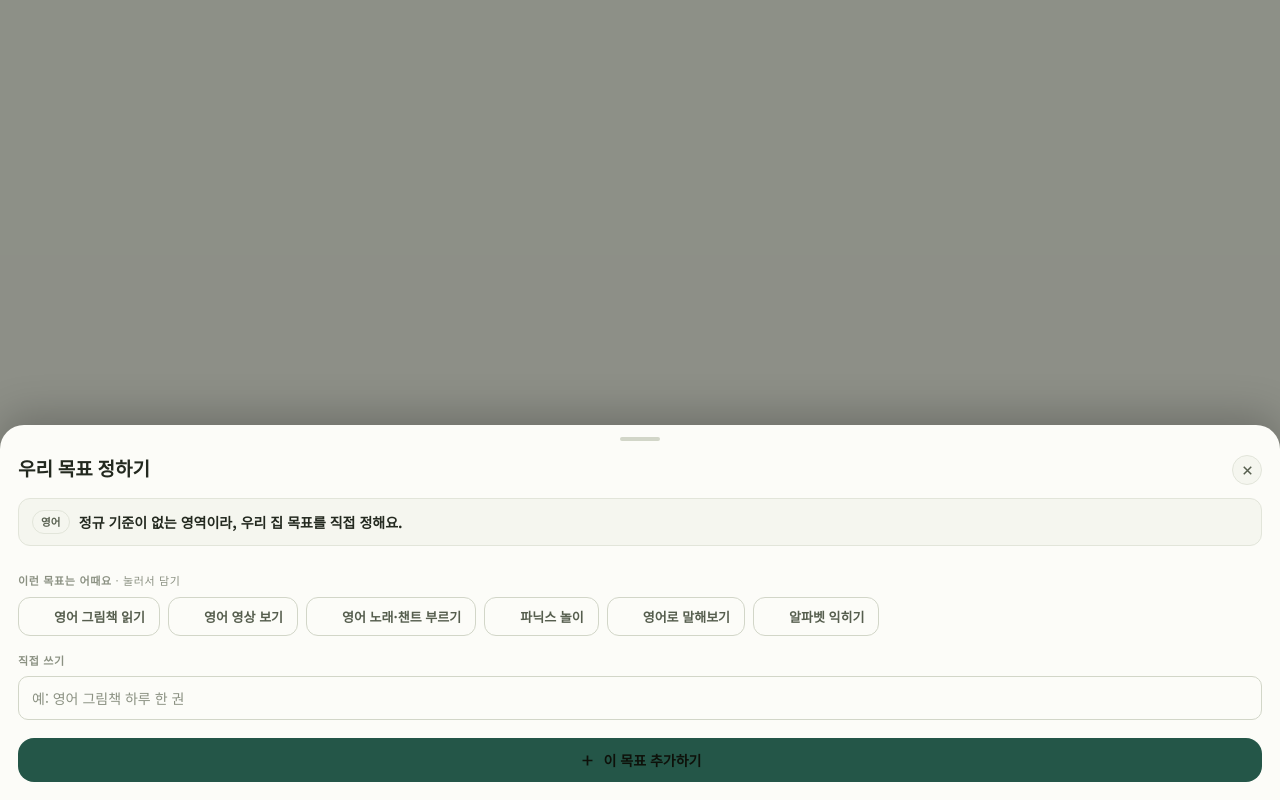
Test: GoalSheet — 부모가 영어 목표를 입력 › 제안 칩을 누르면 입력칸이 채워진다 (회상보다 인식)
Click the button "영어 그림책 읽기". click: (89, 616)
box: [18,596,160,636]
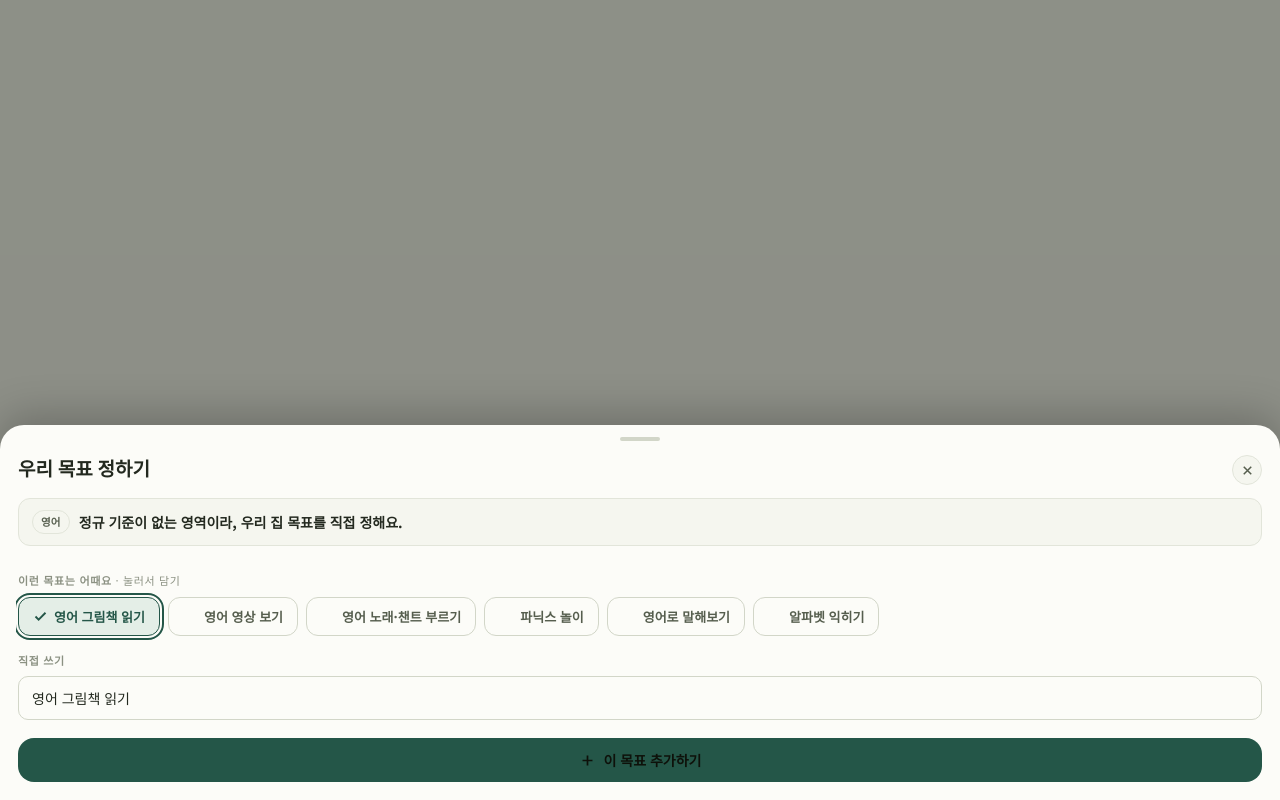
Expected: the field named "목표 문장" holds "영어 그림책 읽기", [18,676,1262,720]
